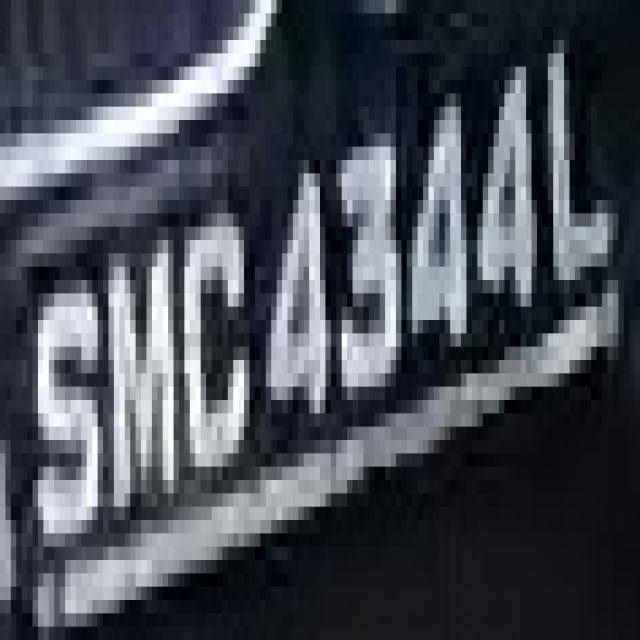3: (326, 54, 402, 414)
4: (250, 133, 336, 427), (461, 66, 548, 346), (396, 80, 477, 373)
C: (157, 174, 260, 494)
L: (548, 0, 618, 320)
M: (103, 213, 179, 520)
S: (44, 227, 98, 573)
